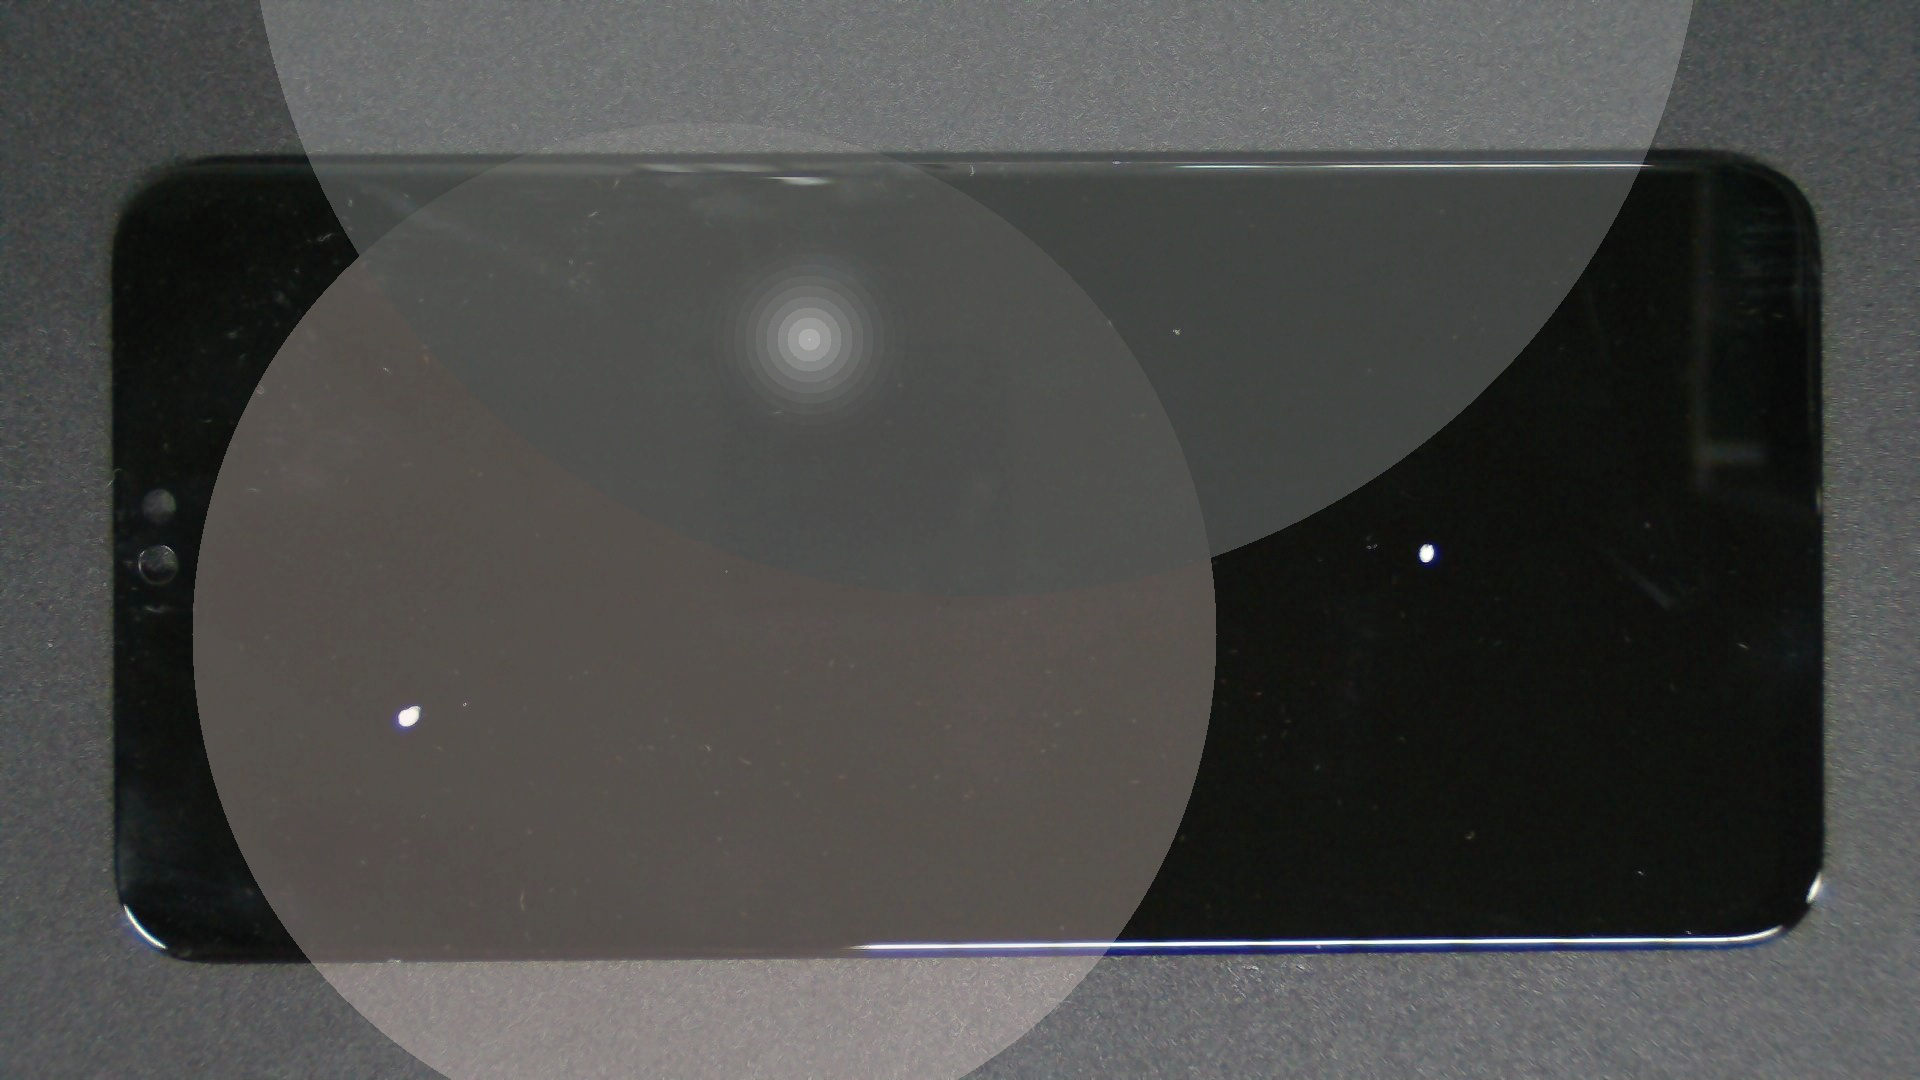oil: (713, 269, 1920, 816), (211, 352, 629, 1056)
